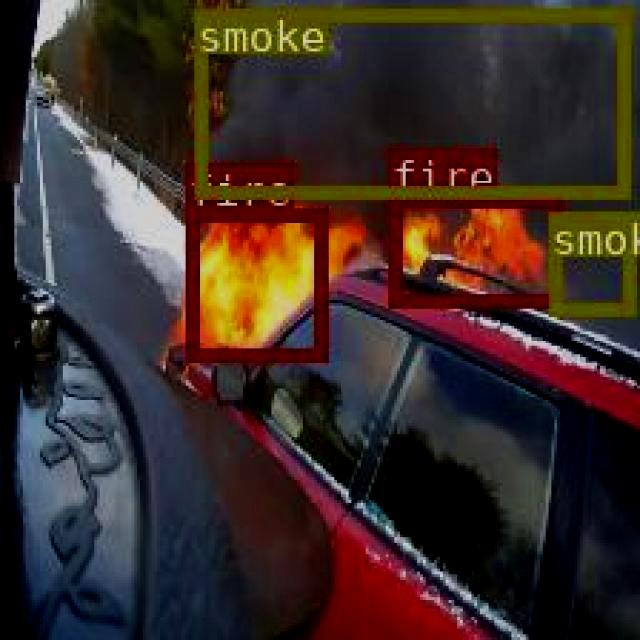fire: (184, 208, 326, 358), (388, 192, 558, 304)
smoke: (192, 7, 626, 196), (548, 210, 632, 314)
